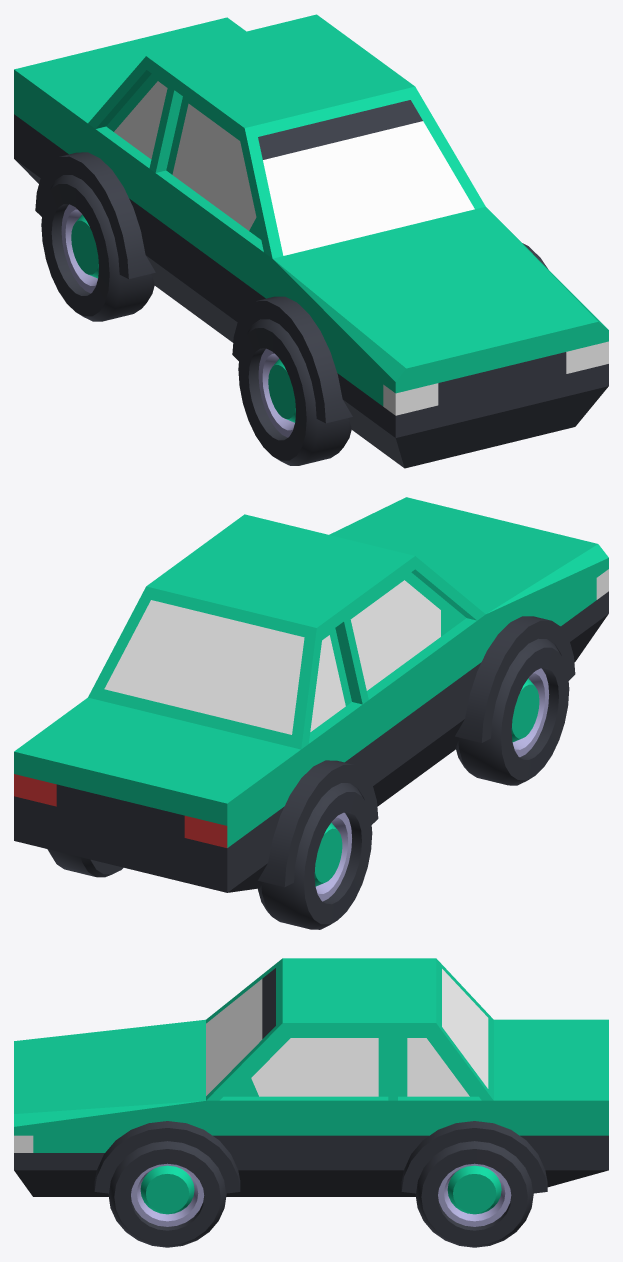
Rendered from Car.fbx.
The picture shows the model from 3 angles, top to bottom: view 1: azimuth 30°, elevation 25°; view 2: azimuth 150°, elevation 25°; view 3: azimuth 270°, elevation 25°; orthographic projection. The views are drawn at different scales.
Parts seen in each view (by area): view 1: body_frontLarge, body_topStandard, wheel_classic (×2), body_backSolid, body_standard, wheel_coverStandard (×2), body_topBackStandard; view 2: body_backSolid, body_topBackStandard, body_topStandard, wheel_classic (×3), body_frontLarge, body_standard, wheel_coverStandard (×2); view 3: body_frontLarge, body_topStandard, body_standard, wheel_classic (×2), body_backSolid, body_topBackStandard, wheel_coverStandard (×2).
Boxes of the visible parts, x1=… form: body_frontLarge: x1=272, y1=206, x2=608, y2=468; body_topStandard: x1=149, y1=32, x2=485, y2=258; wheel_classic (×2): x1=41, y1=175, x2=351, y2=465; body_backSolid: x1=14, y1=17, x2=246, y2=287; body_standard: x1=137, y1=157, x2=272, y2=342; wheel_coverStandard (×2): x1=35, y1=152, x2=352, y2=423; body_topBackStandard: x1=88, y1=14, x2=340, y2=159; body_backSolid: x1=14, y1=697, x2=350, y2=892; body_topBackStandard: x1=88, y1=568, x2=351, y2=749; body_topStandard: x1=171, y1=514, x2=485, y2=704; wheel_classic (×3): x1=47, y1=638, x2=569, y2=929; body_frontLarge: x1=329, y1=497, x2=608, y2=662; body_standard: x1=322, y1=614, x2=485, y2=806; wheel_coverStandard (×2): x1=258, y1=616, x2=575, y2=887; body_frontLarge: x1=14, y1=1019, x2=205, y2=1196; body_topStandard: x1=206, y1=958, x2=397, y2=1100; body_standard: x1=206, y1=1096, x2=445, y2=1196; wheel_classic (×2): x1=108, y1=1141, x2=533, y2=1247; body_backSolid: x1=426, y1=1019, x2=608, y2=1187; body_topBackStandard: x1=398, y1=958, x2=493, y2=1100; wheel_coverStandard (×2): x1=94, y1=1121, x2=547, y2=1193.
Size of the model in its own units: 12.33 by 12.08 by 31.
